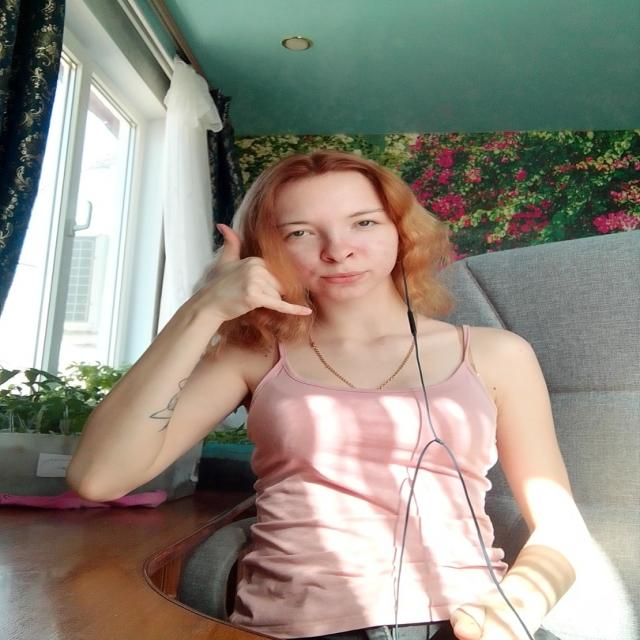call: (193, 223, 317, 323)
